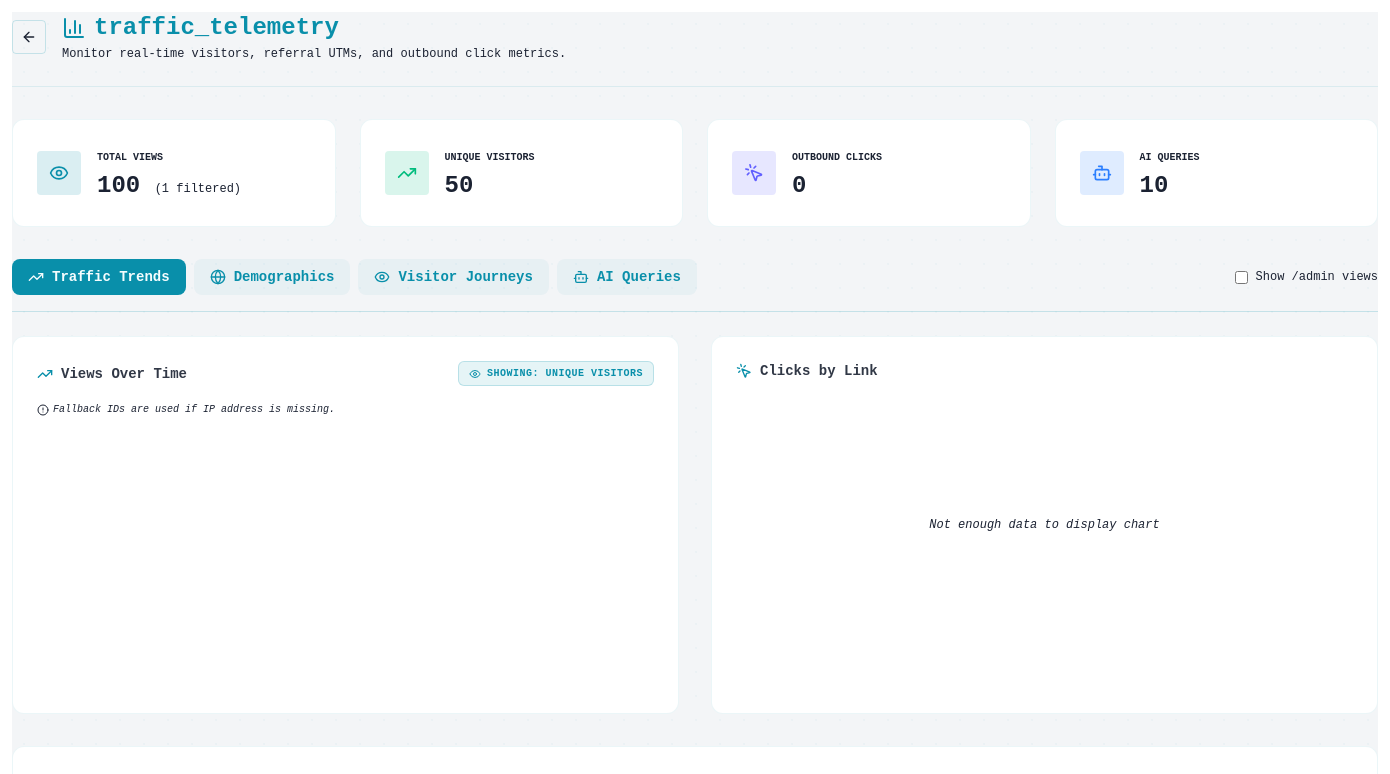
Scenario: AnalyticsPage › filters out admin views by default and toggles them
Check: the heading "traffic_telemetry" is shown, box [62, 14, 339, 41]
Check: the text "(1 filtered)" is shown, box [155, 182, 241, 196]
Click the checkbox labelled "Show /admin views" at (1241,277), box [1235, 270, 1248, 284]
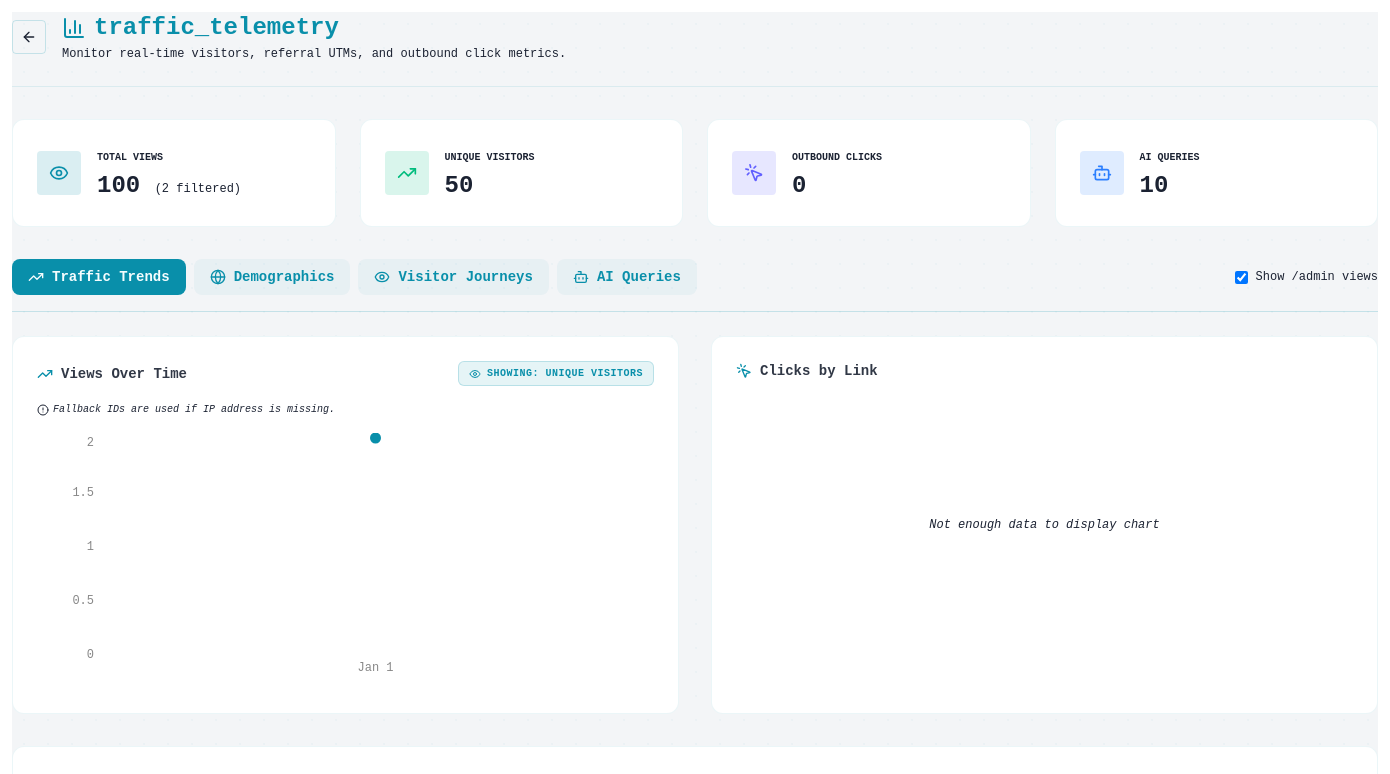
Check: the text "(2 filtered)" is shown, box [155, 182, 241, 196]
